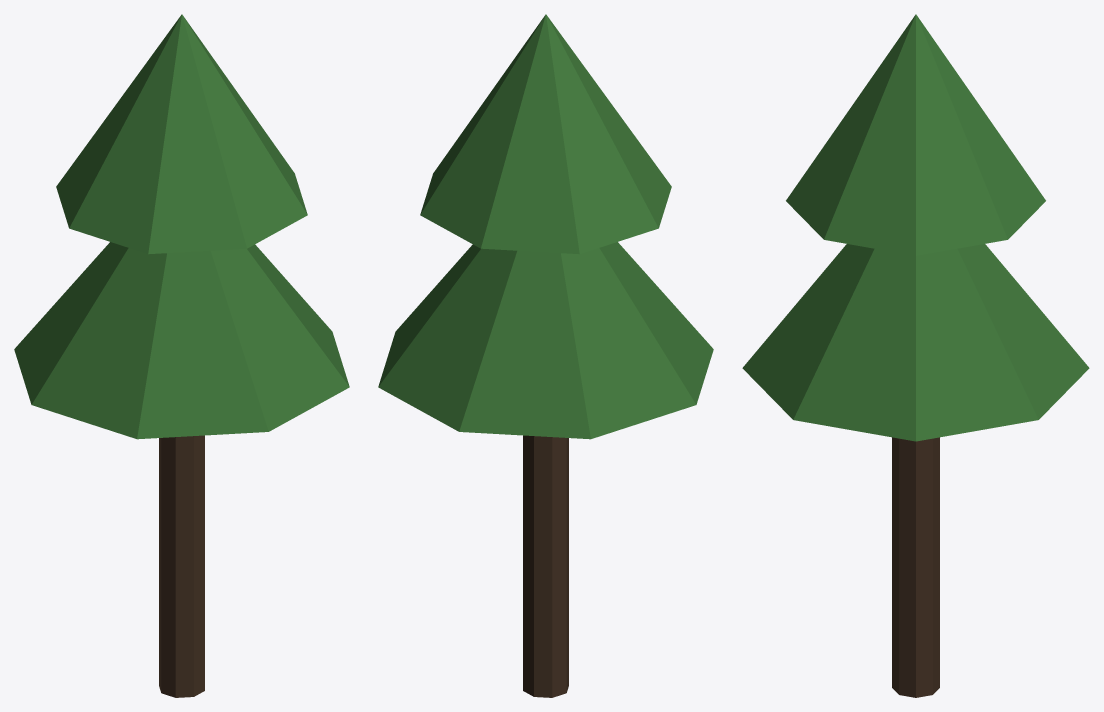
The model's file is prop_tree_c.glb.
The picture shows the model from 3 angles, left to right: view 1: azimuth 30°, elevation 25°; view 2: azimuth 150°, elevation 25°; view 3: azimuth 270°, elevation 25°; orthographic projection.
Visible parts, largest first — view 1: prop; view 2: prop; view 3: prop.
Part boxes in pixels (bbox=[...]): prop: bbox=[14, 14, 349, 697]; prop: bbox=[378, 14, 713, 697]; prop: bbox=[742, 14, 1089, 697].
Size of the model in its own units: 3.2 by 6.85 by 3.2.
